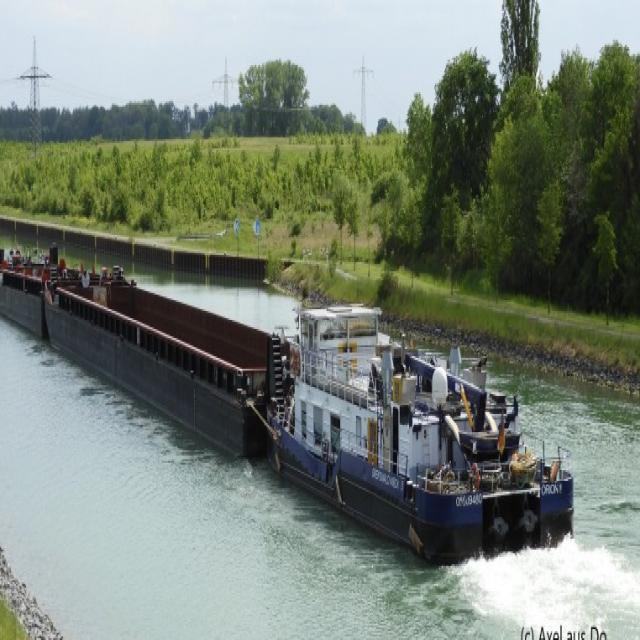tugboat: (264, 296, 579, 580)
